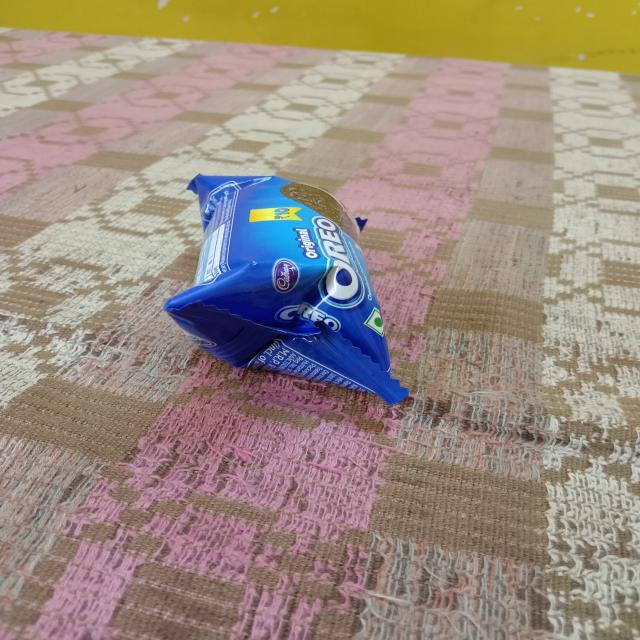oreo biscuit: (152, 168, 435, 414)
